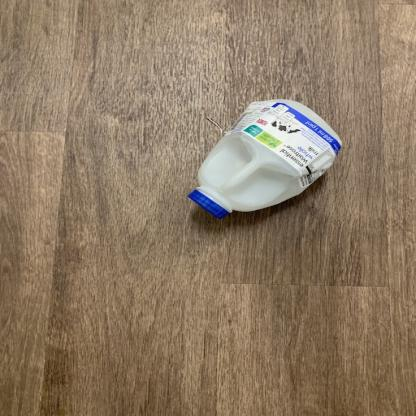trash: (187, 99, 348, 227)
